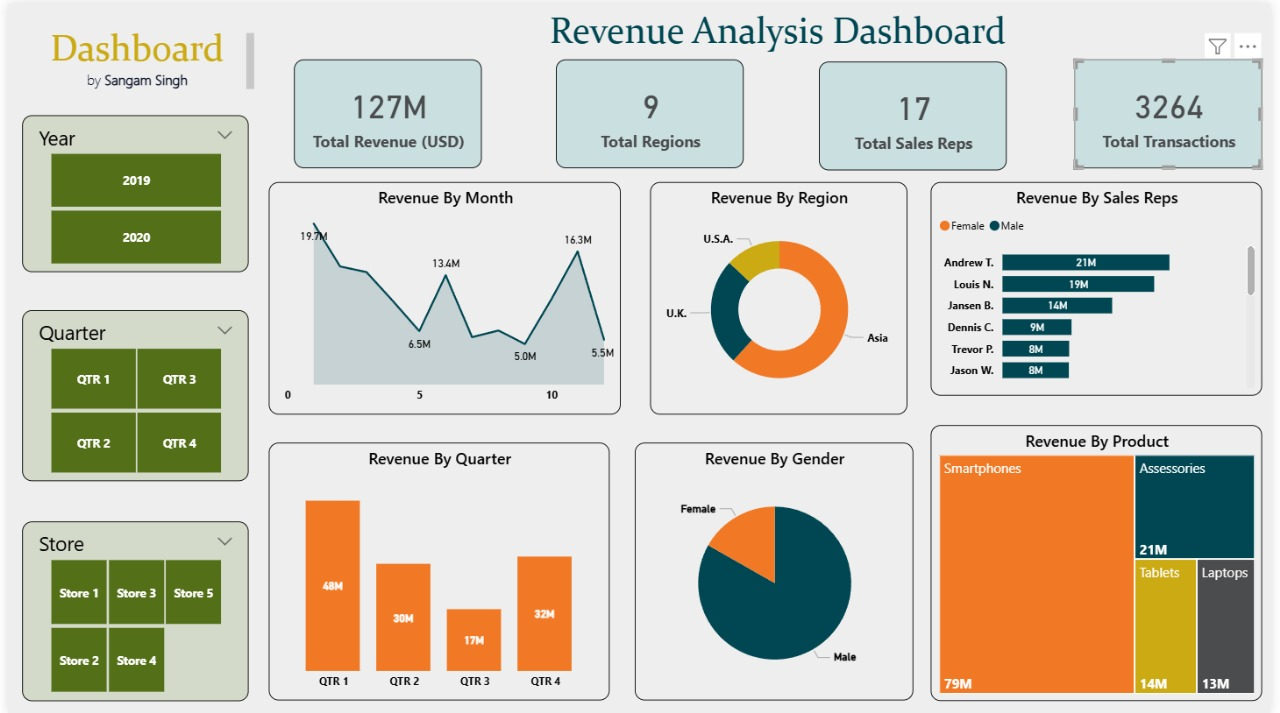

The dashboard page shown, as its layout file describes it:
{"tool":"powerbi","page":{"name":"Page 1","canvas":[1280,720],"ordinal":0},"visuals":[{"type":"areaChart","title":"Revenue By Month","fields":{"Category":["financials.Month"],"Y":["Sum(financials.Revenue (USD))"]},"box":[264.3,181,357.1,235.7],"z":0},{"type":"card","fields":{"Values":["Sum(financials.Revenue (USD))"]},"box":[290.5,57.1,190.5,110.7],"z":1000},{"type":"card","fields":{"Values":["Count(financials.Country)"]},"box":[556,57.1,190.5,110.7],"z":2000},{"type":"card","fields":{"Values":["Count(financials.Sales Reps)"]},"box":[822.6,58.3,190.5,110.7],"z":3000},{"type":"card","fields":{"Values":["CountNonNull(financials.Products)"]},"box":[1081,57.1,190.5,110.7],"z":4000},{"type":"slicer","fields":{"Values":["financials.Years"]},"box":[14.3,113.1,229.8,159.5],"z":5000},{"type":"slicer","fields":{"Values":["financials.Quarter"]},"box":[14.3,310.7,229.8,173.8],"z":6000},{"type":"slicer","fields":{"Values":["financials.Rank"]},"box":[14.3,525,229.8,182.1],"z":7000},{"type":"donutChart","title":"Revenue By Region","fields":{"Category":["financials.Region"],"Y":["Sum(financials.Revenue (USD))"]},"box":[651.2,181,260.7,235.7],"z":8000},{"type":"treemap","title":"Revenue By Product","fields":{"Group":["financials.Products"],"Values":["Sum(financials.Revenue (USD))"]},"box":[935.7,427.4,335.7,279.8],"z":9000},{"type":"lineClusteredColumnComboChart","title":"Revenue By Quarter","fields":{"Category":["financials.Quarter"],"Y":["Sum(financials.Revenue (USD))"]},"box":[264.3,445.2,345.2,261.9],"z":10000},{"type":"pieChart","title":"Revenue By Gender","fields":{"Category":["financials.Gender"],"Y":["Sum(financials.Revenue (USD))"]},"box":[635.7,445.2,282.1,261.9],"z":11000},{"type":"barChart","title":"Revenue By Sales Reps","fields":{"Category":["financials.Sales Reps"],"Series":["financials.Gender"],"Y":["Sum(financials.Revenue (USD))"]},"box":[935.7,181,335.7,216.7],"z":12000},{"type":"textbox","box":[14.3,21.4,240.5,70.2],"z":13000},{"type":"textbox","box":[290.5,0,981,70.2],"z":14000}]}

Visuals, with their boxes in screenshot pixels (x1, y1, x2, y2), scaled from the page's 1280x720 canvas onto the 1280x713 screenshot:
"Revenue By Month" areaChart: bbox=(264, 179, 621, 413)
card - Sum(financials.Revenue (USD)): bbox=(290, 57, 481, 166)
card - Count(financials.Country): bbox=(556, 57, 746, 166)
card - Count(financials.Sales Reps): bbox=(823, 58, 1013, 167)
card - CountNonNull(financials.Products): bbox=(1081, 57, 1272, 166)
slicer - financials.Years: bbox=(14, 112, 244, 270)
slicer - financials.Quarter: bbox=(14, 308, 244, 480)
slicer - financials.Rank: bbox=(14, 520, 244, 700)
"Revenue By Region" donutChart: bbox=(651, 179, 912, 413)
"Revenue By Product" treemap: bbox=(936, 423, 1271, 700)
"Revenue By Quarter" lineClusteredColumnComboChart: bbox=(264, 441, 610, 700)
"Revenue By Gender" pieChart: bbox=(636, 441, 918, 700)
"Revenue By Sales Reps" barChart: bbox=(936, 179, 1271, 394)
textbox: bbox=(14, 21, 255, 91)
textbox: bbox=(290, 0, 1272, 70)
